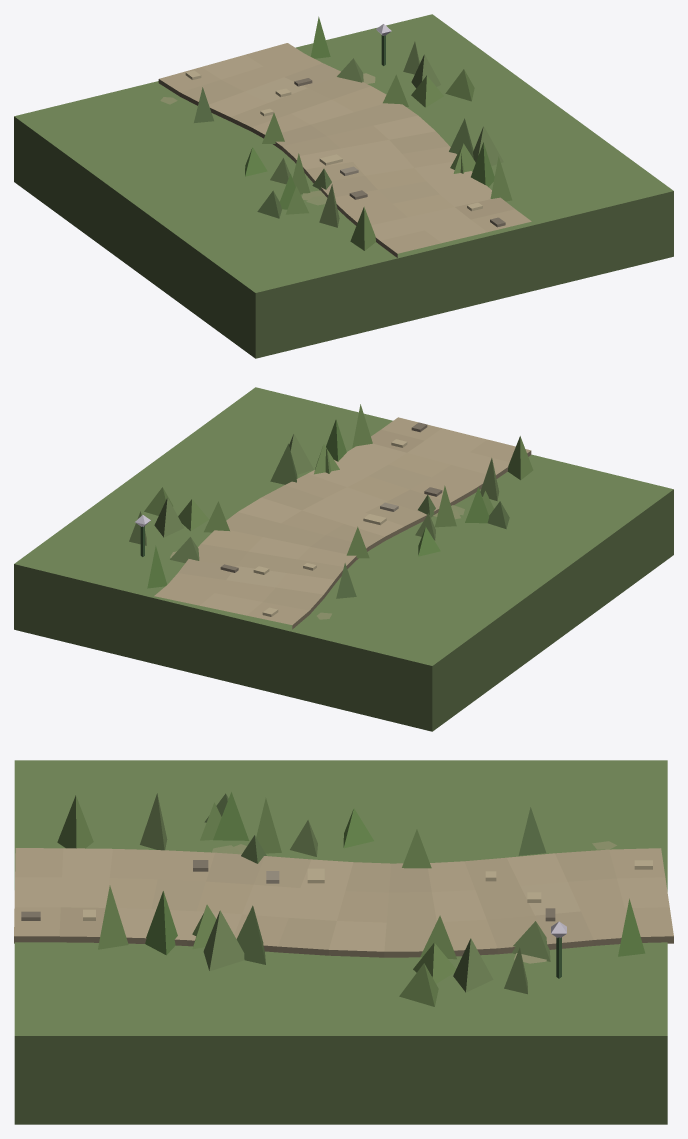
File: t_footpath_10.glb
3 renders of one model, top to bottom at view 1: azimuth 30°, elevation 25°; view 2: azimuth 150°, elevation 25°; view 3: azimuth 270°, elevation 25°, orthographic. The views are drawn at different scales.
Parts seen in each view (by area): view 1: t_footpath_10; view 2: t_footpath_10; view 3: t_footpath_10.
Boxes of the visible parts, x1,y1,x2,y2 form: t_footpath_10: [14, 14, 673, 358]; t_footpath_10: [14, 387, 673, 731]; t_footpath_10: [14, 760, 673, 1124].
Bounding box in the file's own units: 2 × 0.4992 × 2.02.
